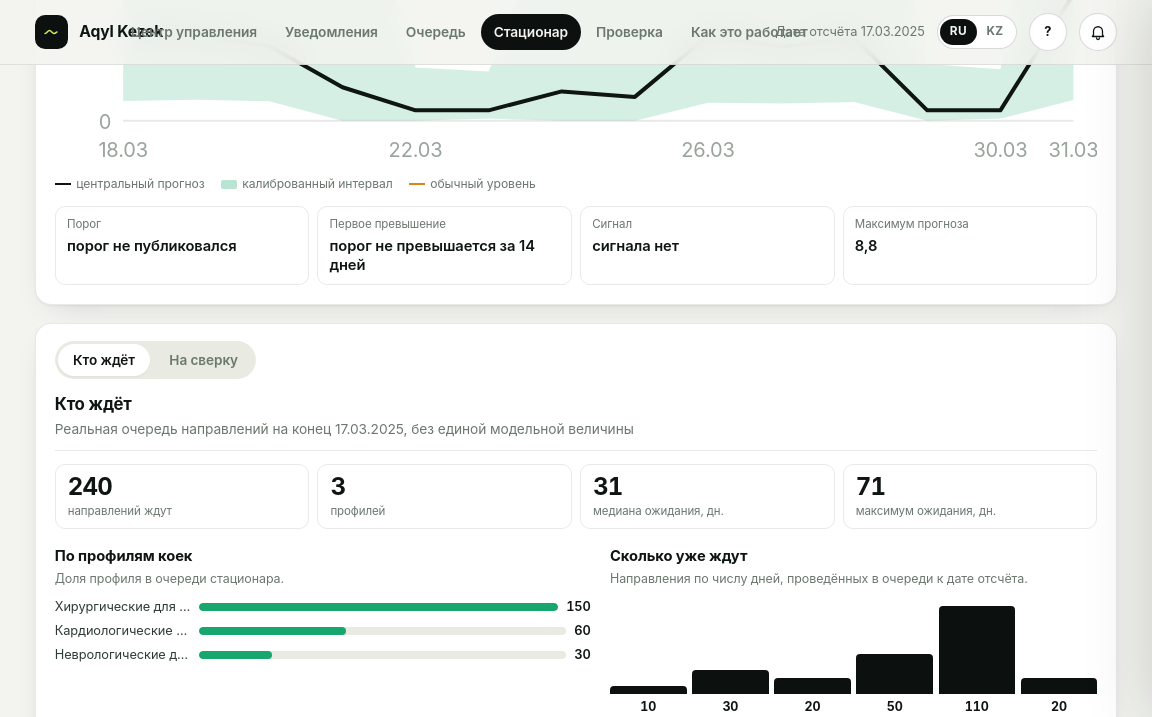
it: Hospital mode › the worklist ranks the whole formal queue, subtracts nothing and says who decides
(page scrolled)
Click the tab "На сверку".
click(204, 360)  # box [154,344,253,376]
(page scrolled)
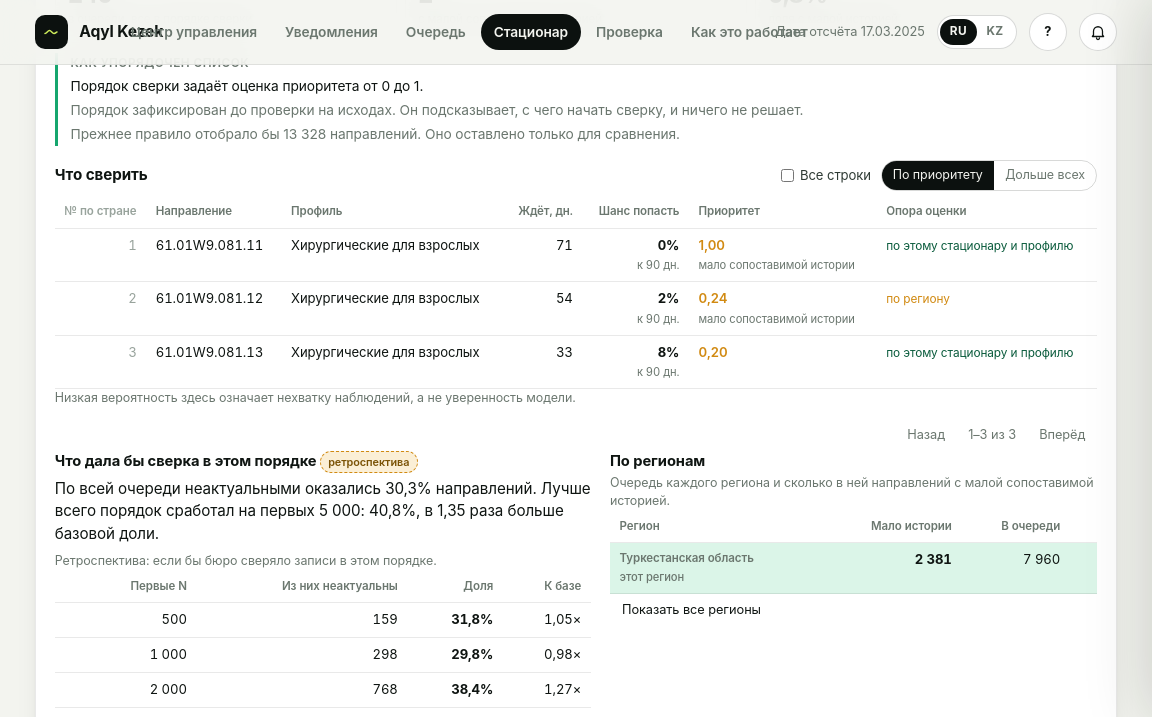
Check: the element "Кто ждёт" shows "Порядок сверки задаёт оценка приоритета от 0 до 1.", box [70,78,423,94]
